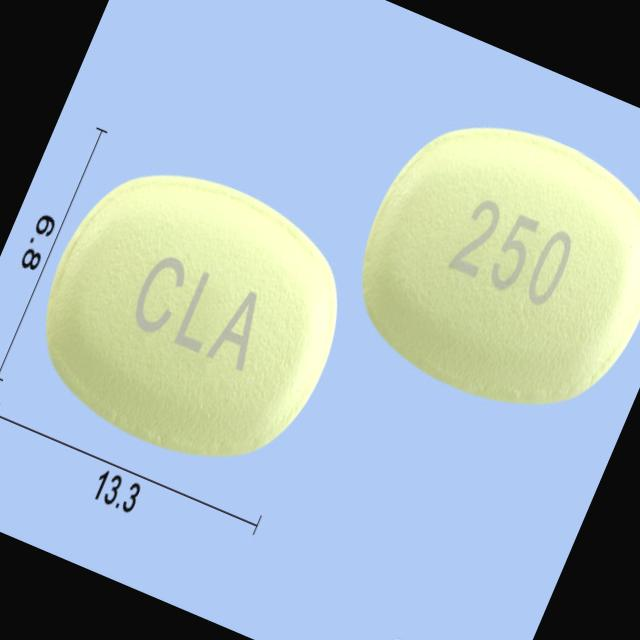Clar - 500mg: (4, 124, 384, 500), (321, 78, 640, 448)
